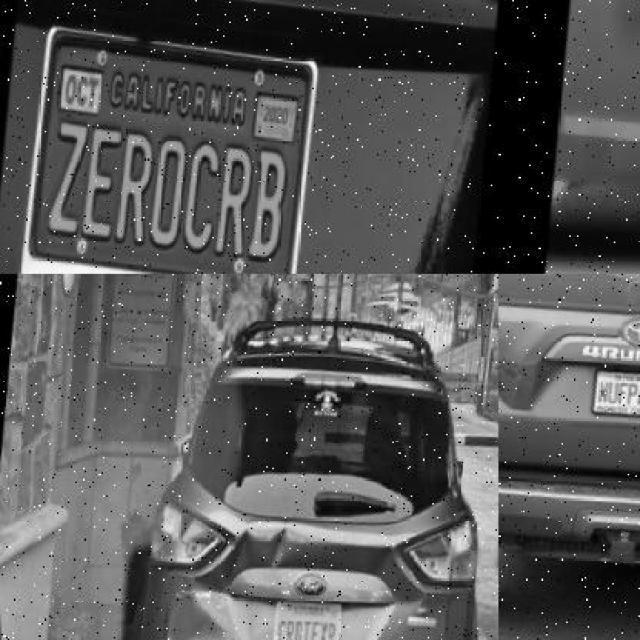LicensePlate: (9, 5, 323, 274), (586, 370, 639, 421), (268, 601, 337, 639)
